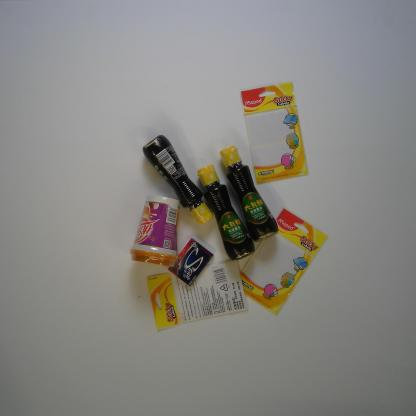Gum: (166, 237, 215, 287)
Instant Drink: (129, 194, 181, 268)
Seasoner: (141, 132, 213, 225), (194, 164, 257, 262), (218, 143, 279, 242)
Stationery: (238, 206, 331, 317), (145, 257, 249, 332), (239, 81, 310, 185)
